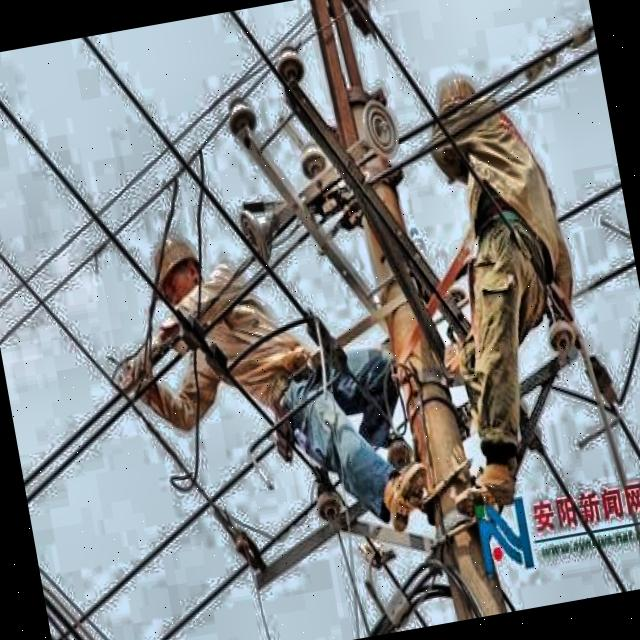helmet: (149, 232, 214, 326)
